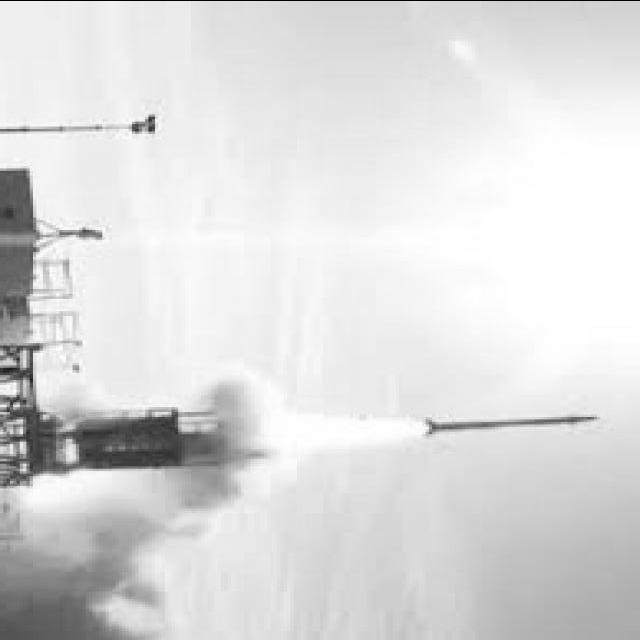Missile: (416, 411, 612, 433)
